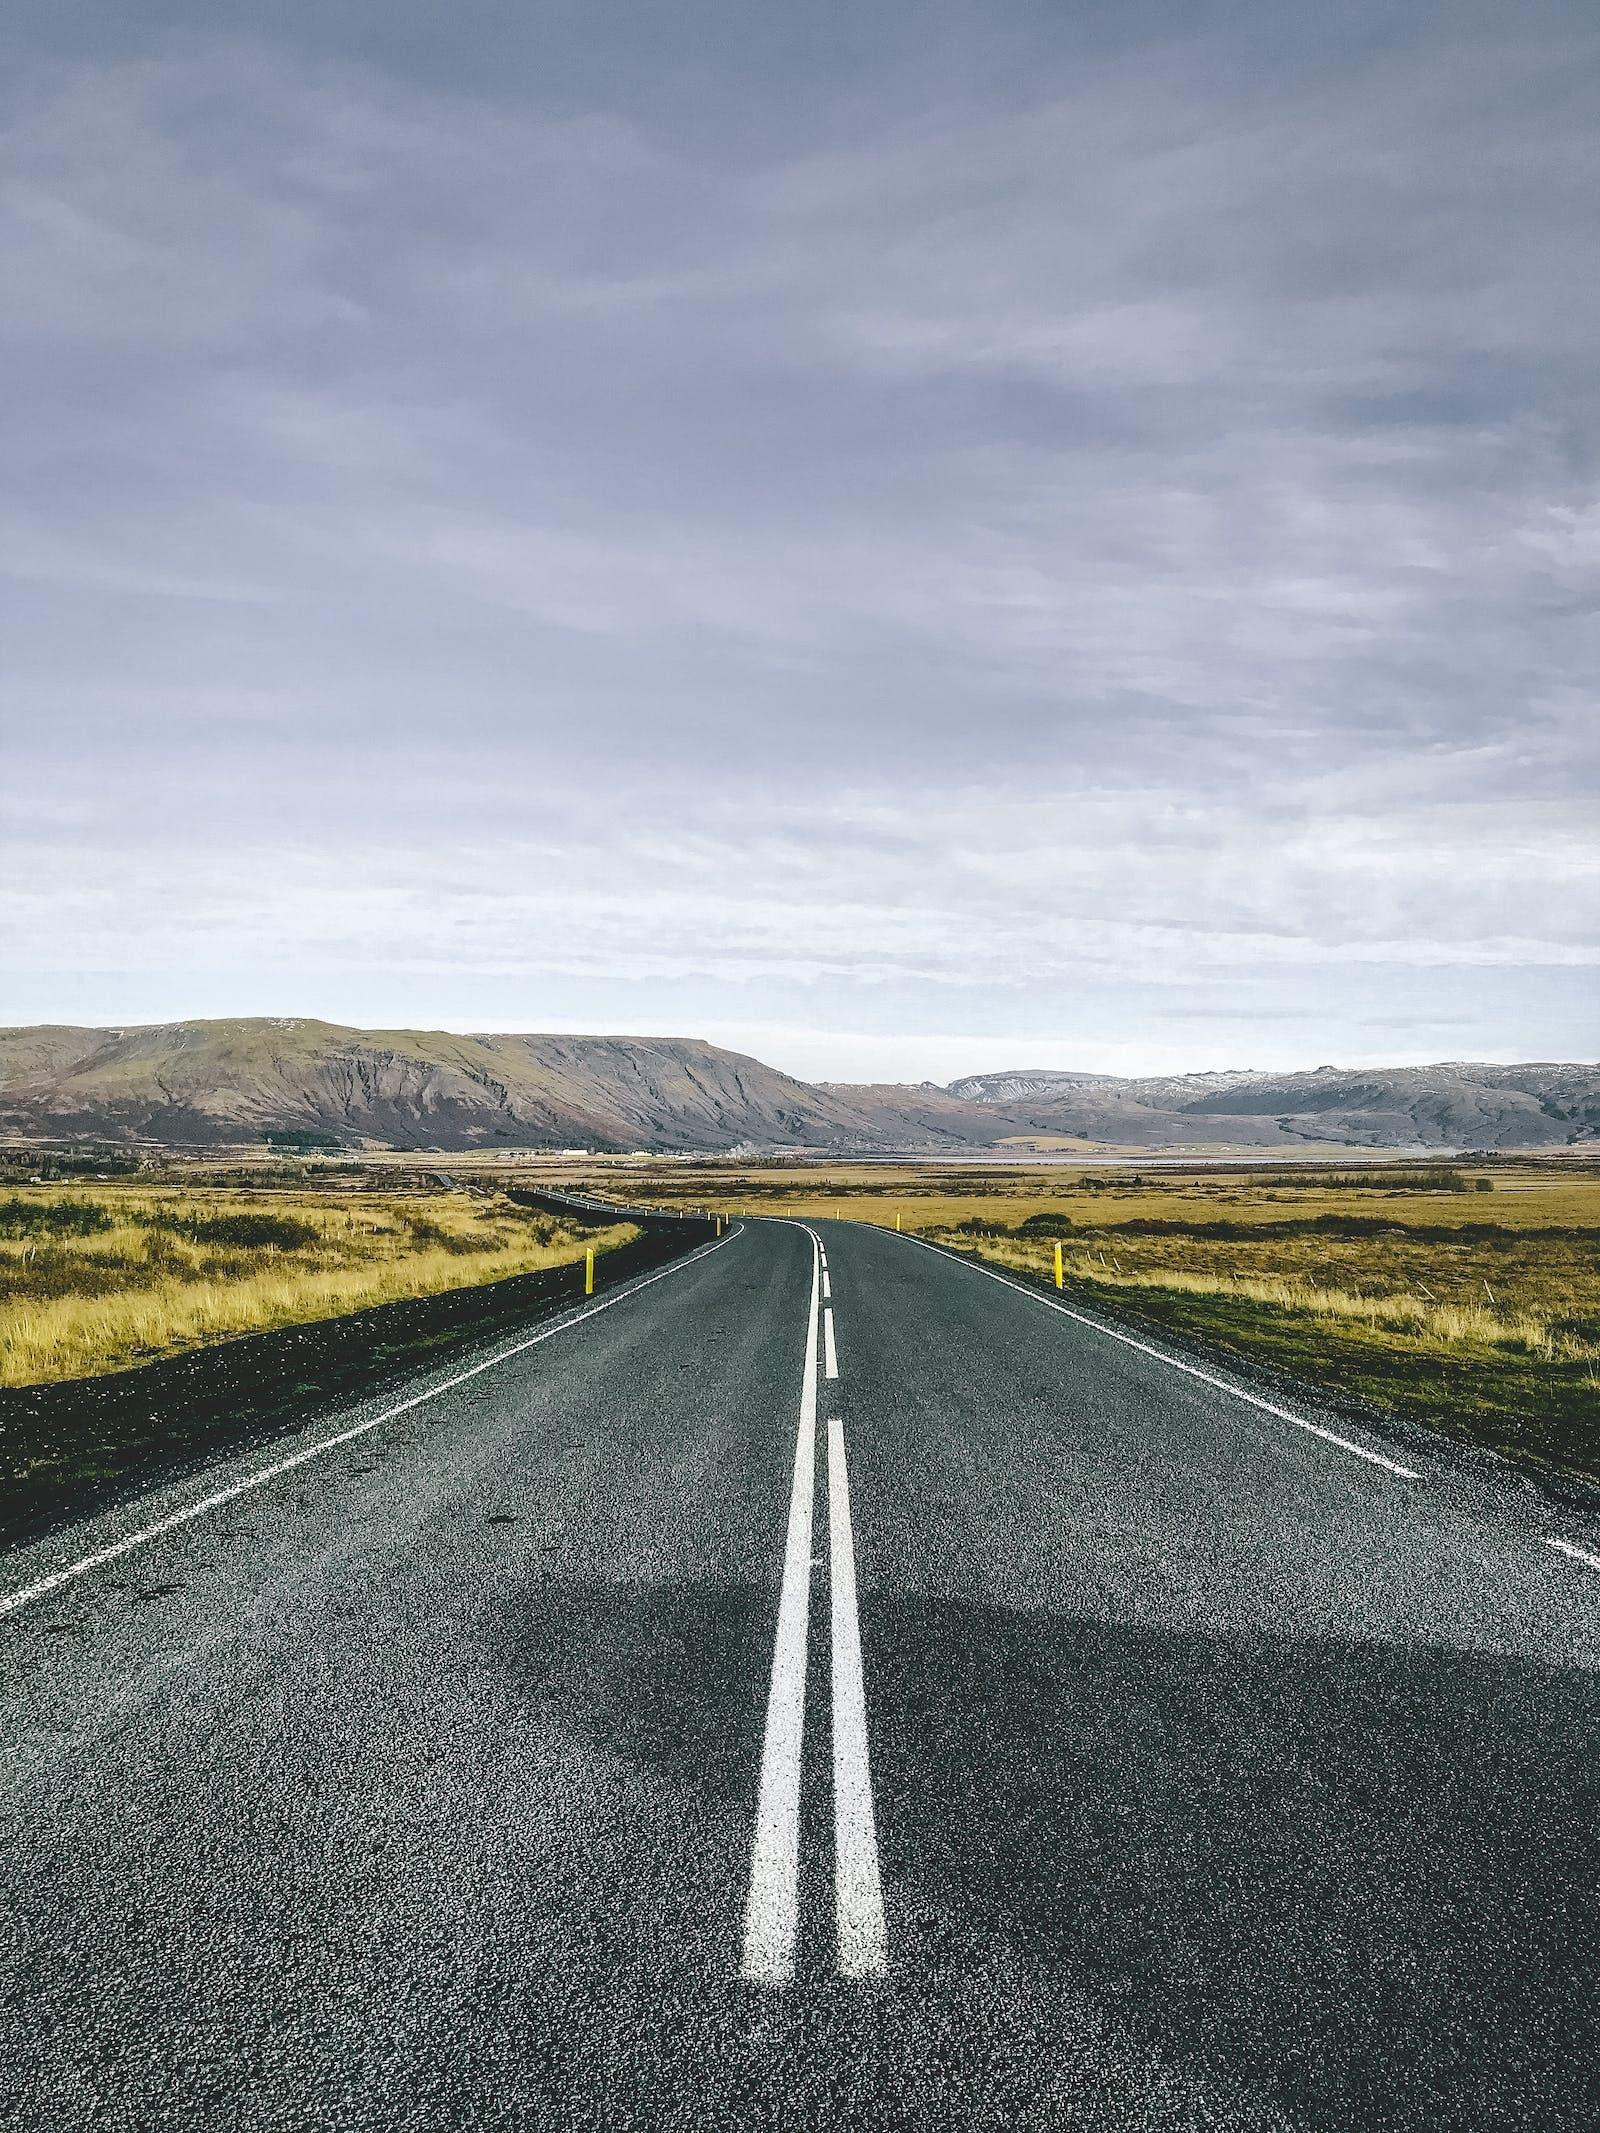field: (0, 1183, 635, 1387)
road: (5, 1220, 1597, 2131)
